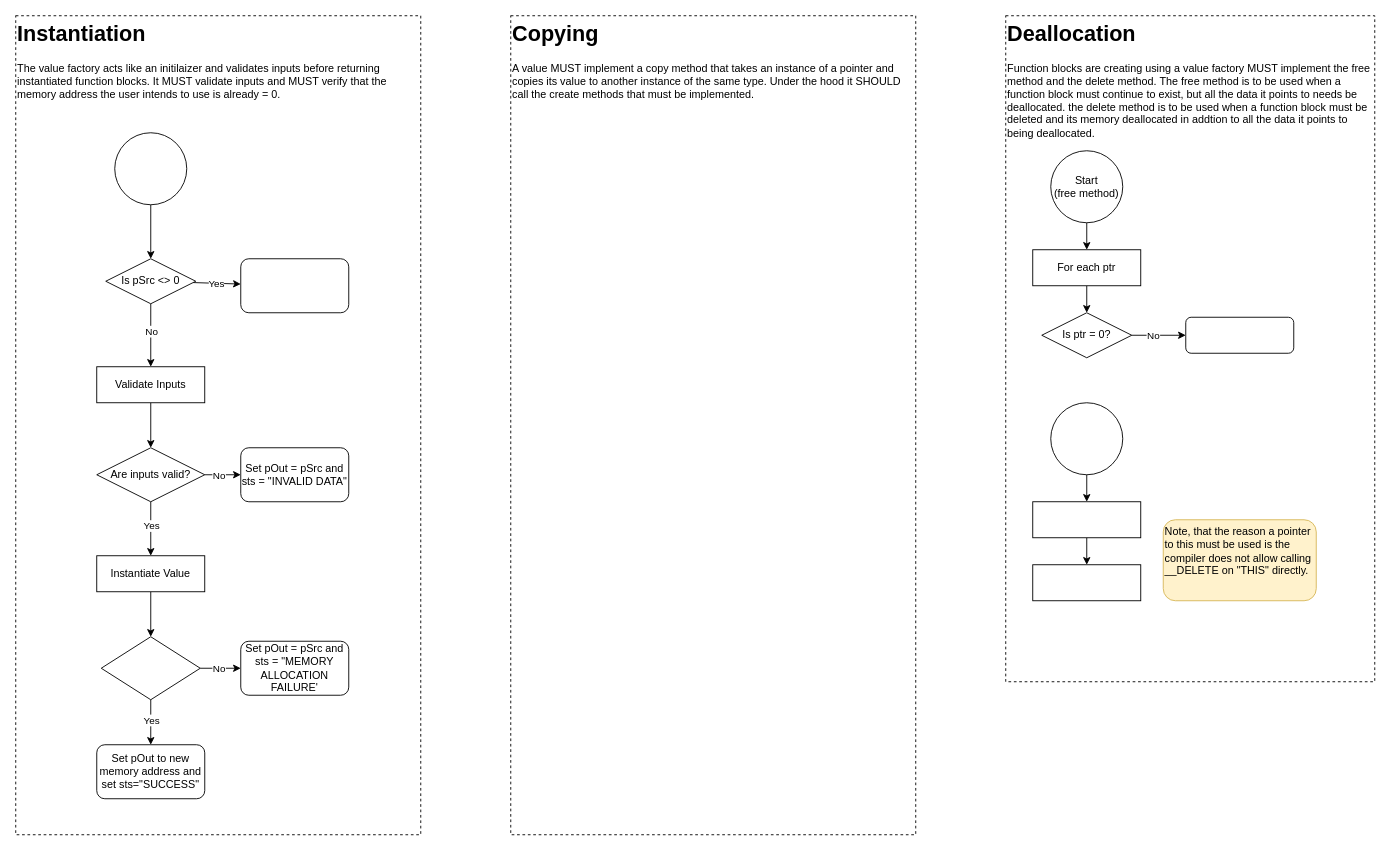
Some shapes in this 1391 by 853 pixel diagram are drawn without their labels. Here are the shapes that lost their labels. From the top down, the centre of each, then its label:
(150,168): Start
(294,285): Set pOut = pSrc and sts = "POINTER ALREADY ALLOCATED"
(1239,334): deallocated the pointer memory
(1086,438): Start (delete method)
(1086,519): Call THIS^.free
(1086,582): call __DELETE on a pointer to THIS
(150,668): Instantiation success?
